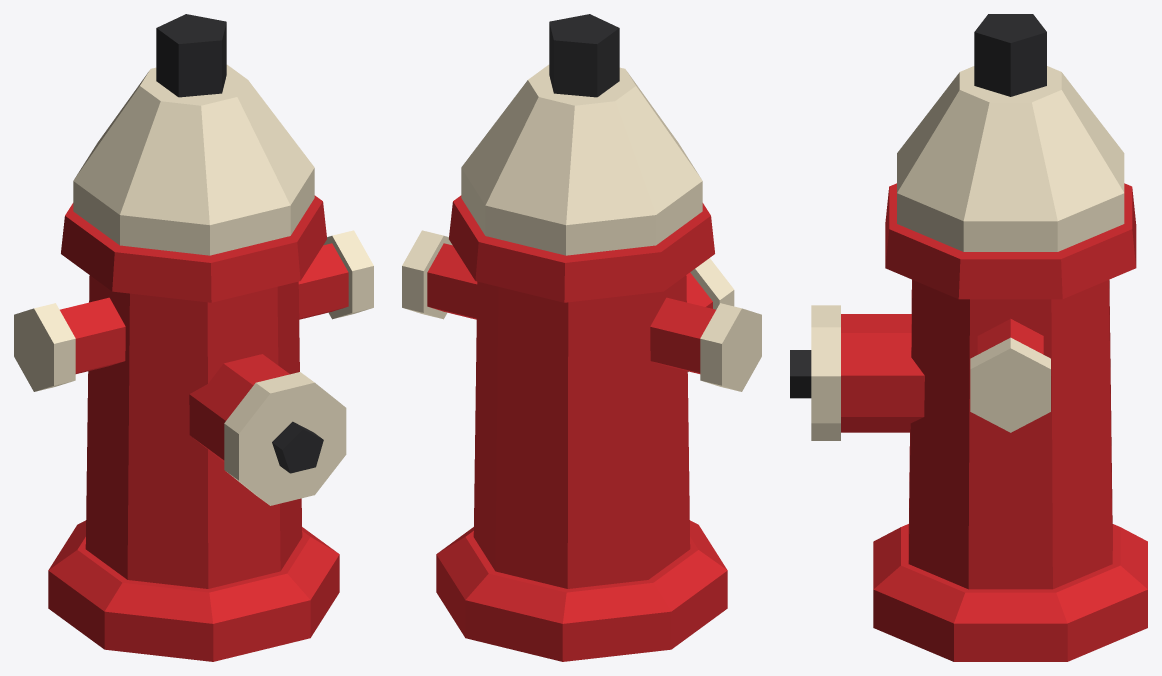
The model's file is fire_hydrant.glb.
3 renders of one model, left to right at view 1: azimuth 30°, elevation 25°; view 2: azimuth 150°, elevation 25°; view 3: azimuth 270°, elevation 25°, orthographic.
Visible parts, largest first — view 1: fire_hydrant; view 2: fire_hydrant; view 3: fire_hydrant.
Boxes of the visible parts, box(x1,y1,x2,y2) form: fire_hydrant: box(14, 14, 373, 661); fire_hydrant: box(402, 14, 761, 661); fire_hydrant: box(790, 14, 1147, 661).
Bounding box in the file's own units: 0.44 × 0.75 × 0.4217.
